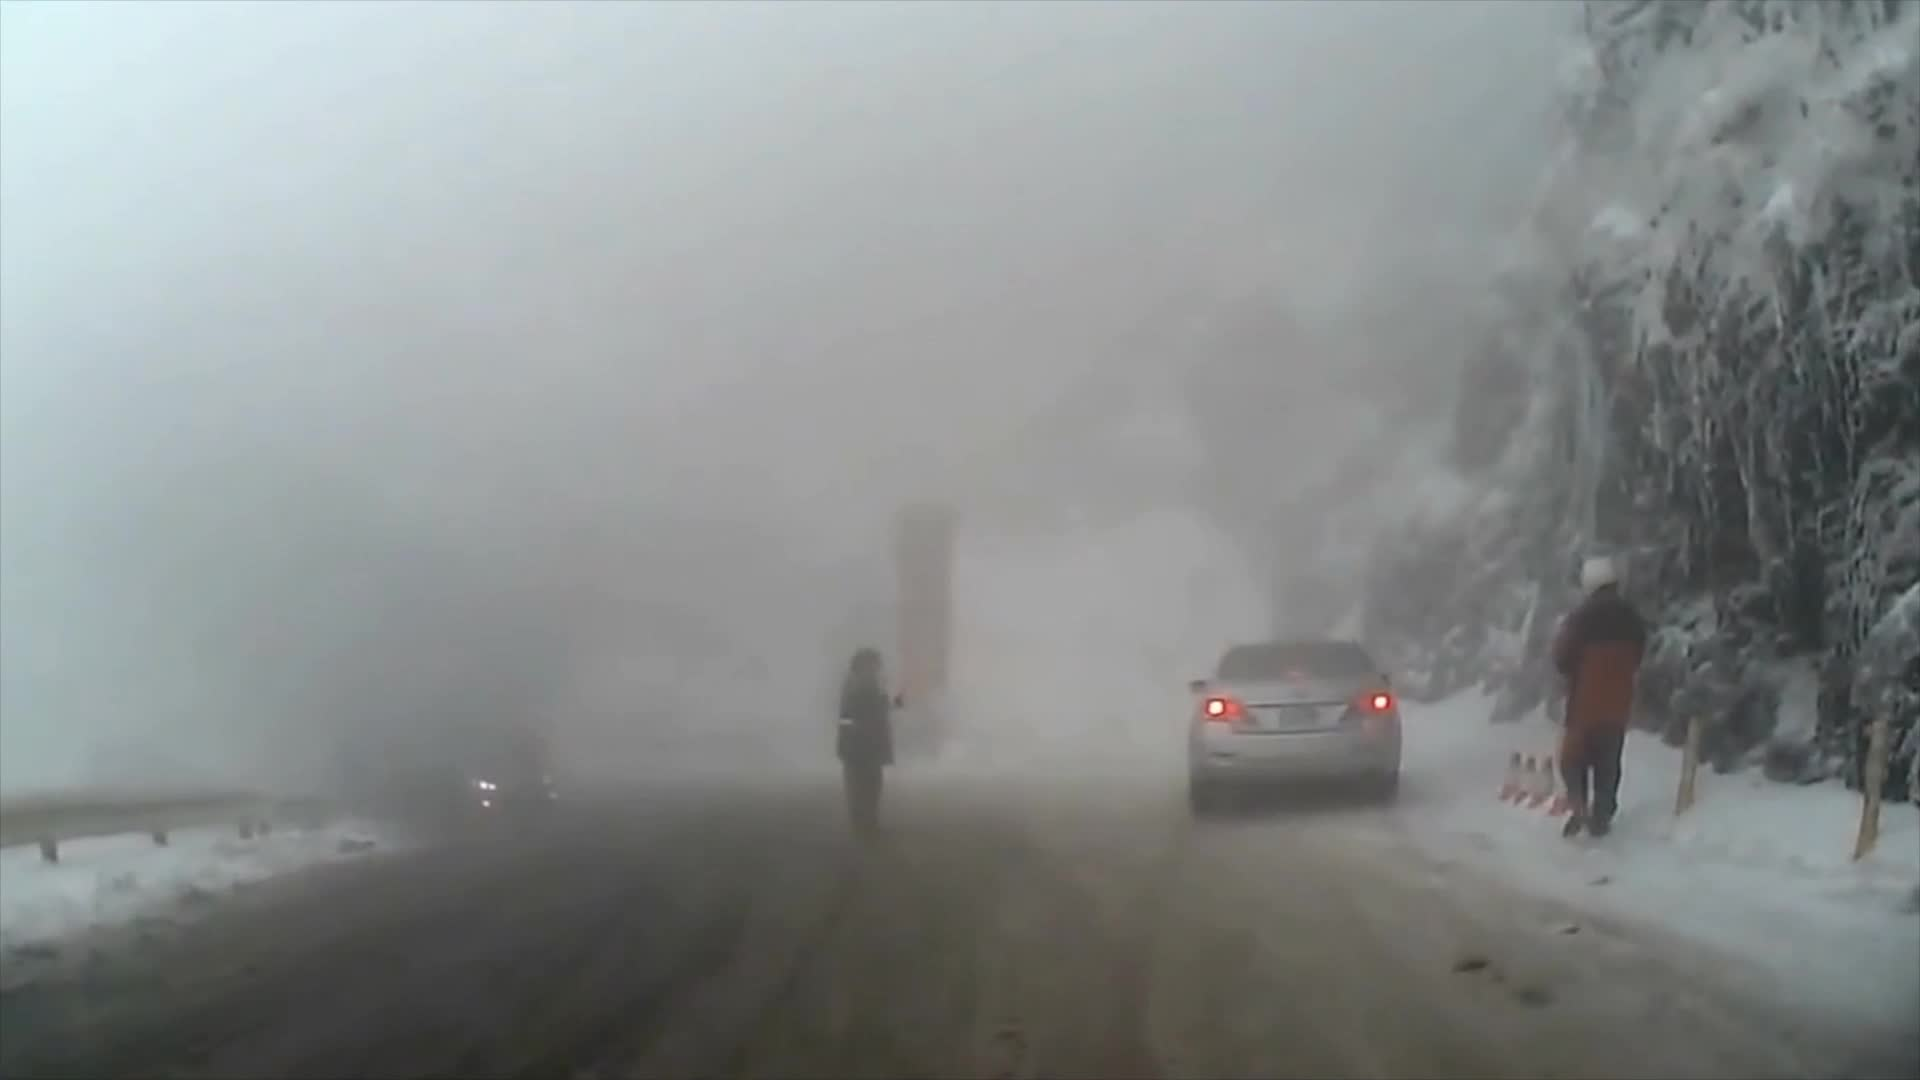pedestrian: (1547, 552, 1654, 844), (841, 645, 903, 834)
vehicle: (1185, 634, 1400, 813)
